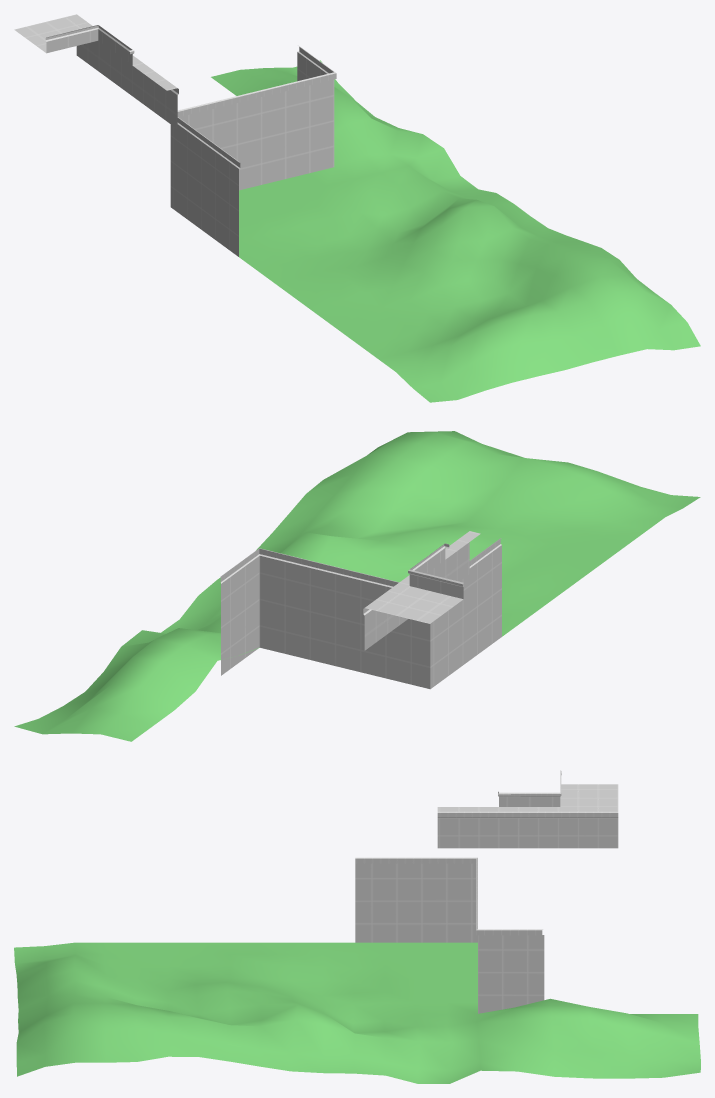
File: Exterior.fbx
3 views of the same model, one above another, from view 1: azimuth 30°, elevation 25°; view 2: azimuth 150°, elevation 25°; view 3: azimuth 270°, elevation 25° (orthographic). The views are drawn at different scales.
Visible parts, largest first — view 1: Exterior; view 2: Exterior; view 3: Exterior.
Part boxes in pixels (x1,y1,x2,y2): Exterior: (14, 14, 700, 402); Exterior: (14, 431, 700, 741); Exterior: (14, 770, 700, 1083).
Bounding box in the file's own units: 2190 × 1060 × 4119.
